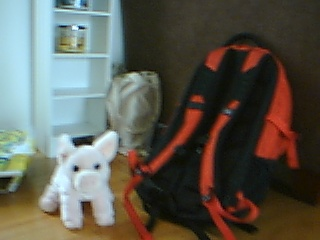piggy: (37, 129, 119, 230)
